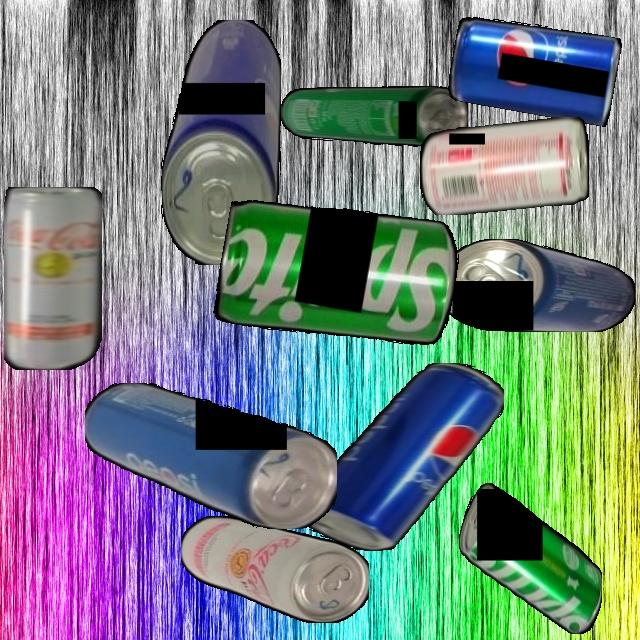debris: (211, 186, 465, 360), (298, 363, 504, 551), (84, 383, 337, 529), (160, 19, 281, 265), (458, 482, 602, 634), (446, 11, 622, 127), (180, 516, 369, 623), (439, 238, 635, 332), (4, 186, 102, 370), (419, 116, 589, 215), (280, 86, 468, 147)
